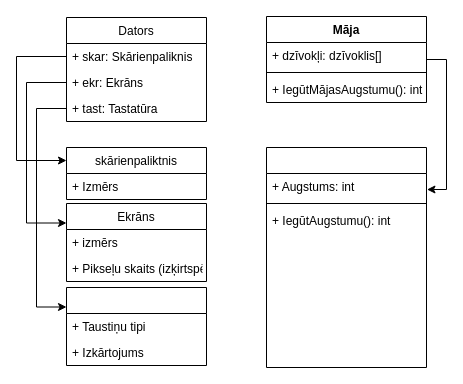
Image size: 463x384. Some labels were removed from this diagram. The shapes that lost their labels are listed below. From the top down, each one's box as (x1, y1, x2, y2) in pixels, then its label:
(266, 146, 426, 368): Dzīvoklis
(66, 286, 206, 366): Tastatūra
